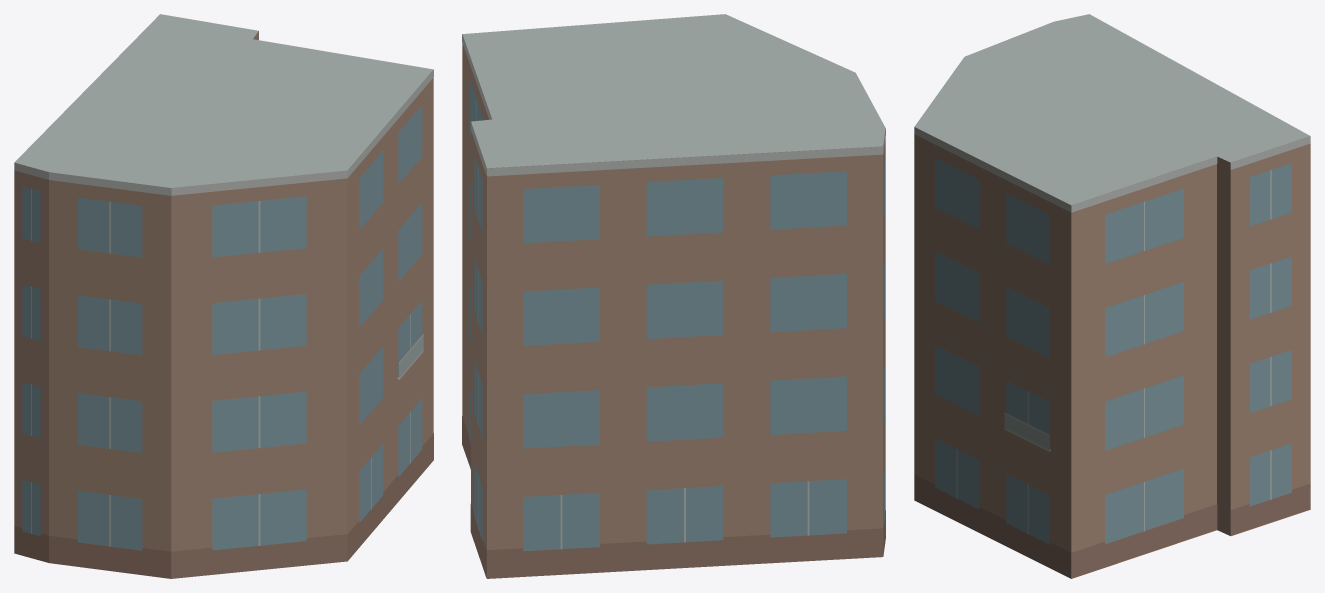
The model's file is survey-upis-32674051.glb.
3 renders of one model, left to right at view 1: azimuth 30°, elevation 25°; view 2: azimuth 150°, elevation 25°; view 3: azimuth 270°, elevation 25°, orthographic. The views are drawn at different scales.
Visible parts, largest first — view 1: survey-upis-32674051.tmp; view 2: survey-upis-32674051.tmp; view 3: survey-upis-32674051.tmp.
Part boxes in pixels (<box>): survey-upis-32674051.tmp: <box>14,14,433,578</box>; survey-upis-32674051.tmp: <box>462,14,885,578</box>; survey-upis-32674051.tmp: <box>914,14,1310,578</box>.
Bounding box in the file's own units: 13.4 × 12.2 × 11.74.
